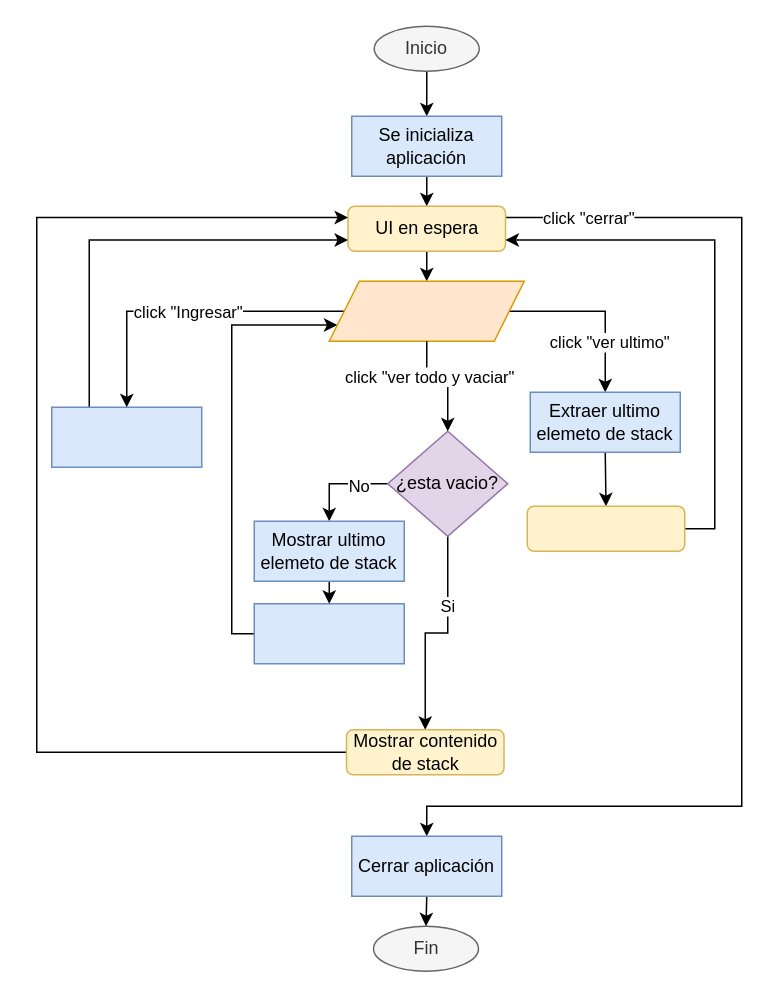
The diagram is 780 pixels wide and 998 high, and some of its shapes have lost their labels. Here are the shapes that lost their labels. From the top down, the centre of each, then its label:
[426,310]: Usuario ingresa texto
[126,436]: Agregar elemento a stack
[605,528]: Mostrar elemento
[328,633]: Eliminar ultimo elemento de stack
